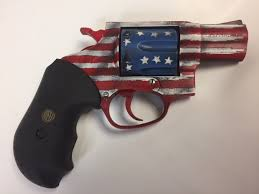gun: (11, 17, 250, 190)
